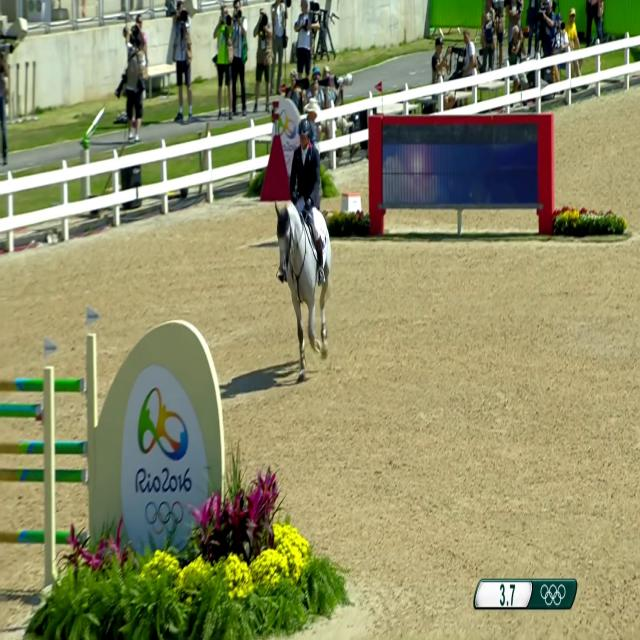Horse Running: (260, 186, 348, 381)
